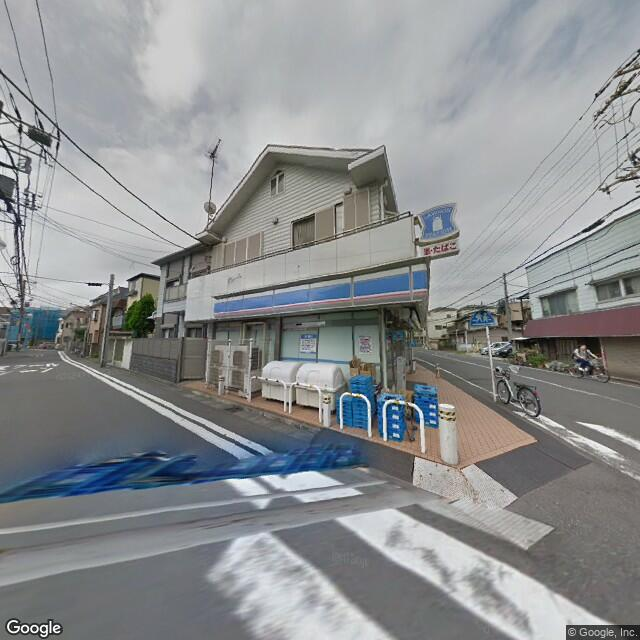lawson: (213, 263, 432, 321), (417, 200, 458, 241)
